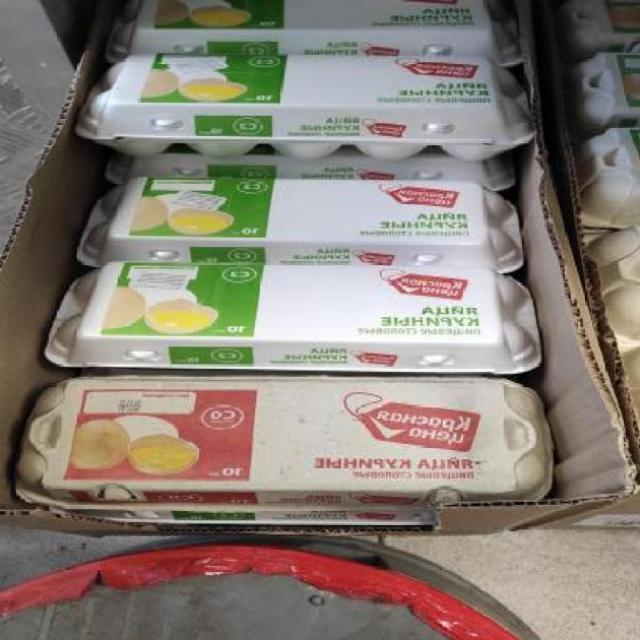Egg: (19, 375, 552, 509), (42, 261, 538, 371), (69, 54, 530, 161), (74, 180, 522, 267), (107, 0, 519, 64), (564, 127, 640, 228), (564, 52, 640, 132), (589, 223, 640, 342), (562, 0, 640, 58)
